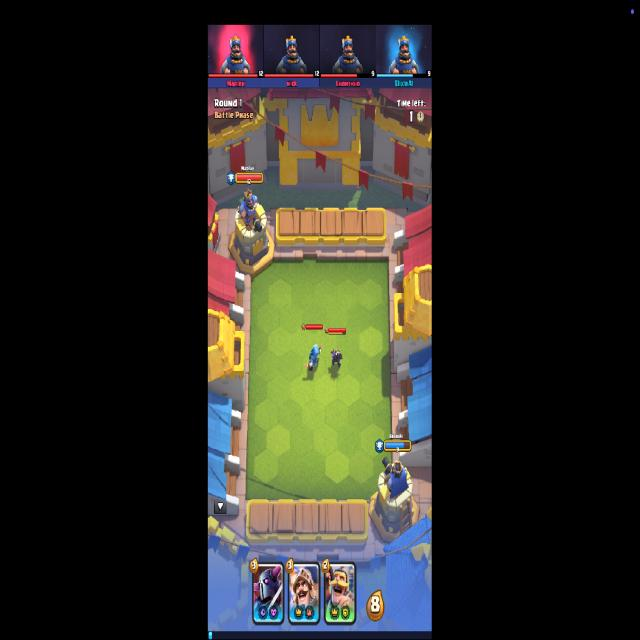card_knight: (324, 562, 356, 626)
card_pekka: (252, 561, 284, 626)
card_prince: (289, 560, 320, 626)
e_wiz: (330, 346, 343, 369)
wizard: (305, 343, 323, 372)
